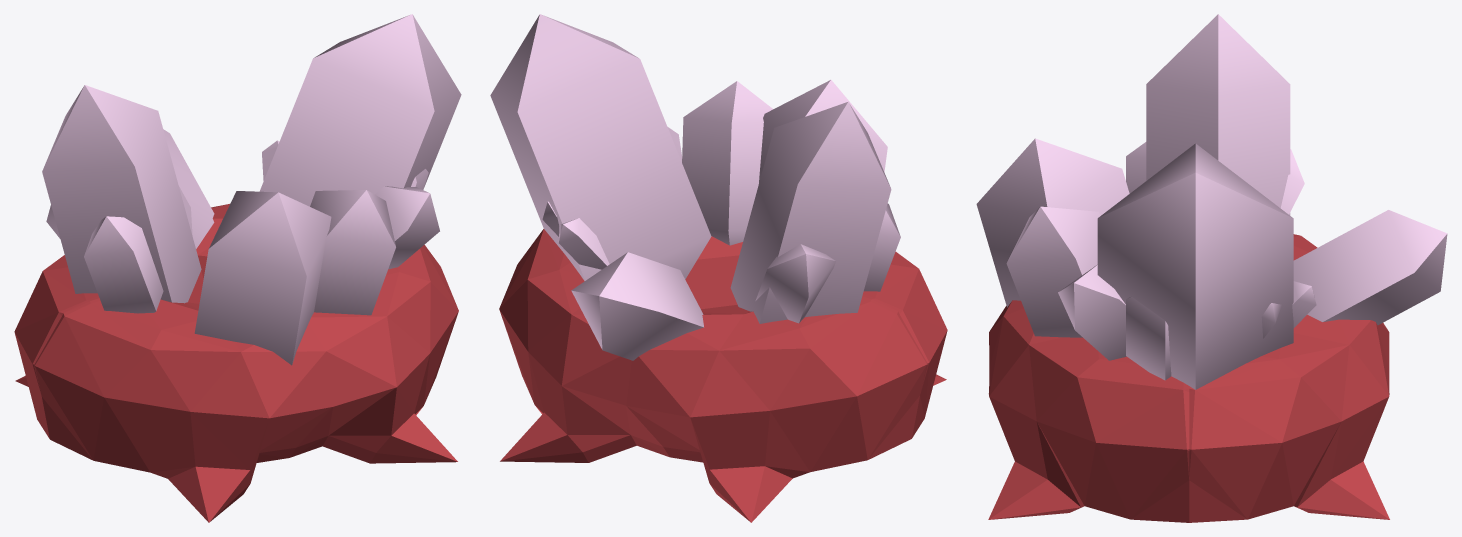
The model's file is GreatCrystalBase.FBX.
The picture shows the model from 3 angles, left to right: view 1: azimuth 30°, elevation 25°; view 2: azimuth 150°, elevation 25°; view 3: azimuth 270°, elevation 25°; orthographic projection. The views are drawn at different scales.
Parts seen in each view (by area): view 1: GeoSphere001, Object002, Object001, Object003, Object007, Object004, Object008, Object006; view 2: GeoSphere001, Object002, Object001, Object007, Object006, Object005, Object003, Object010, Object004; view 3: GeoSphere001, Object002, Object001, Object006, Object003, Object007, Object008, Object009, Object004, Object010, Object005.
Part boxes in pixels (x1,y1,x2,y2): GeoSphere001: (14, 204, 458, 522); Object002: (259, 14, 461, 206); Object001: (42, 85, 201, 303); Object003: (194, 191, 331, 365); Object007: (310, 190, 395, 315); Object004: (84, 216, 163, 313); Object008: (375, 186, 439, 269); Object006: (163, 129, 214, 248); GeoSphere001: (499, 229, 947, 522); Object002: (490, 14, 711, 280); Object001: (730, 101, 891, 323); Object007: (682, 81, 772, 245); Object006: (571, 252, 703, 360); Object005: (755, 244, 835, 323); Object003: (759, 80, 887, 182); Object010: (558, 218, 609, 269); Object004: (864, 203, 900, 291); GeoSphere001: (988, 234, 1389, 522); Object002: (1097, 143, 1293, 389); Object001: (1146, 14, 1290, 215); Object006: (1293, 210, 1447, 325); Object003: (976, 138, 1129, 307); Object007: (1006, 206, 1100, 337); Object008: (1058, 265, 1126, 360); Object009: (1126, 296, 1171, 380); Object004: (1126, 142, 1146, 193); Object010: (1292, 281, 1316, 327); Object005: (1280, 149, 1304, 214).
Size of the model in its own units: 21.7 by 17.7 by 19.81.
Materials: 2 (2 with a texture image).
